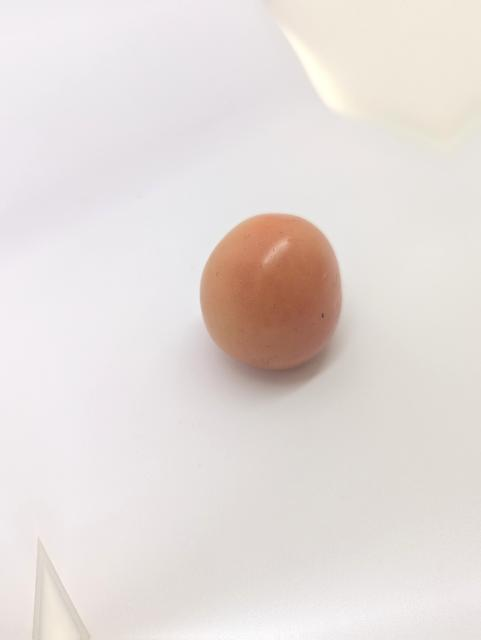turning: (193, 209, 356, 381)
